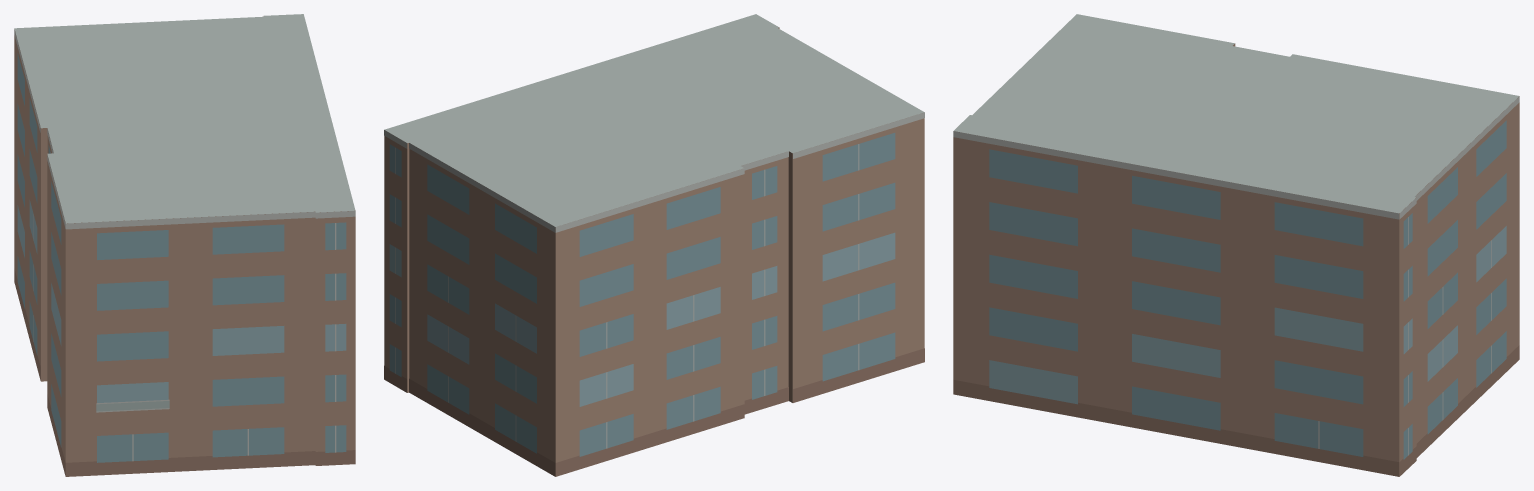
File: survey-upis-32663385.glb
3 renders of one model, left to right at view 1: azimuth 30°, elevation 25°; view 2: azimuth 150°, elevation 25°; view 3: azimuth 270°, elevation 25°, orthographic. The views are drawn at different scales.
Parts seen in each view (by area): view 1: survey-upis-32663385.tmp; view 2: survey-upis-32663385.tmp; view 3: survey-upis-32663385.tmp.
Part boxes in pixels (x1,y1,x2,y2): survey-upis-32663385.tmp: (14,14,355,476); survey-upis-32663385.tmp: (384,14,924,476); survey-upis-32663385.tmp: (953,14,1519,476).
Bounding box in the file's own units: 16.9 × 10.4 × 20.27.
